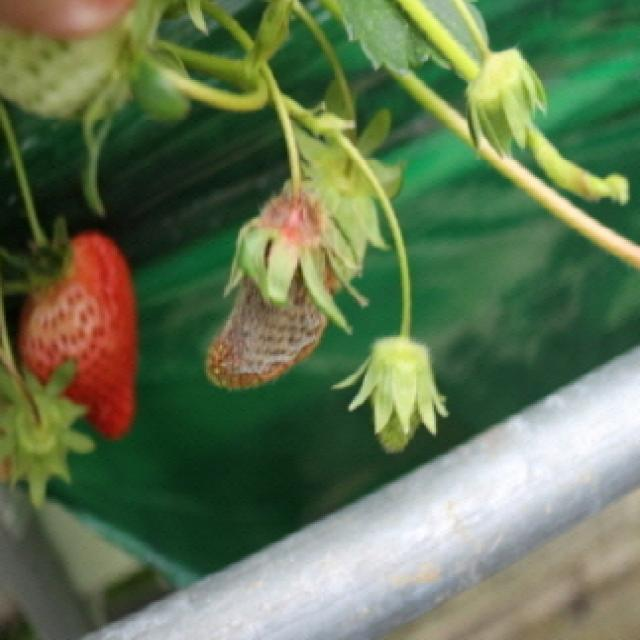Gray Mold: (205, 180, 368, 389)
